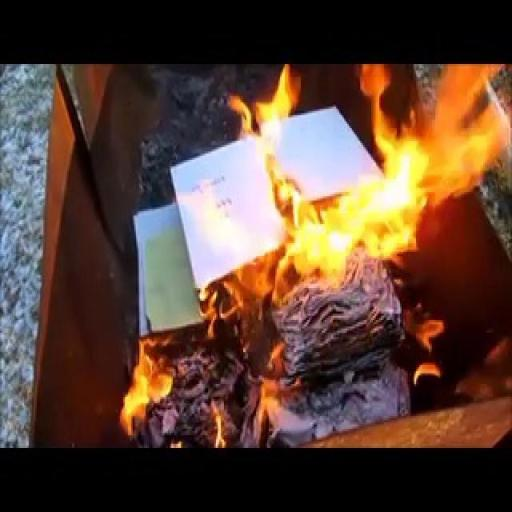smoke: (126, 324, 223, 438)
